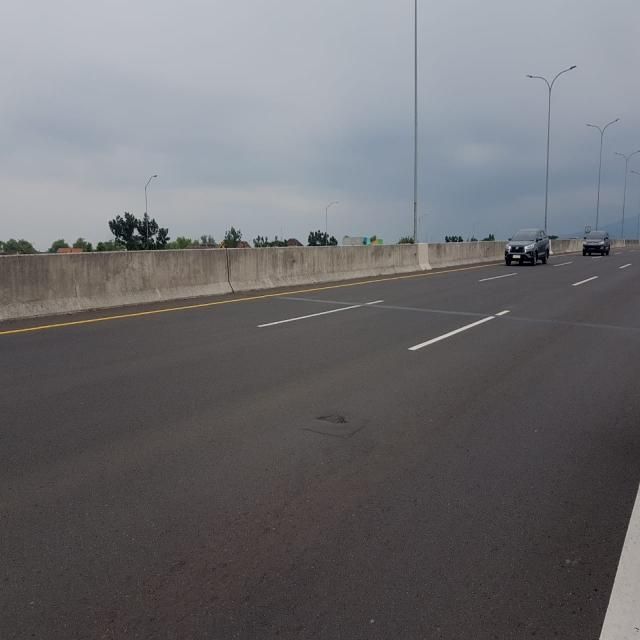Buraco: (312, 412, 352, 426)
